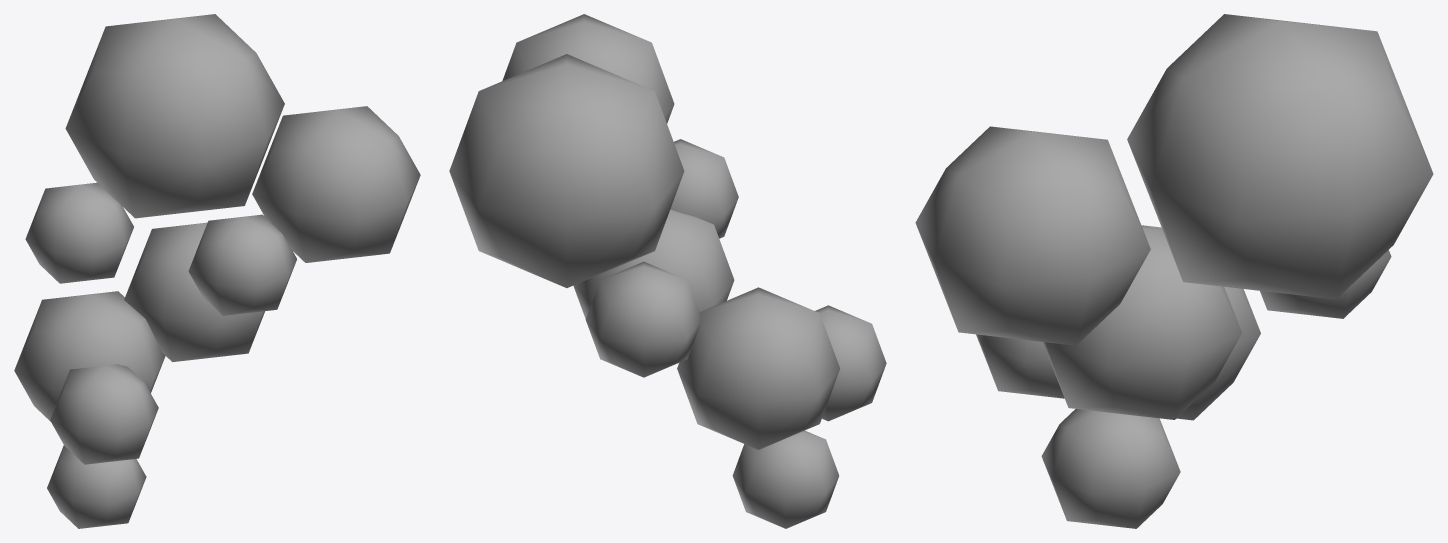
File: Isl_14_Smoke.fbx
The picture shows the model from 3 angles, left to right: view 1: azimuth 30°, elevation 25°; view 2: azimuth 150°, elevation 25°; view 3: azimuth 270°, elevation 25°; orthographic projection. The views are drawn at different scales.
Parts seen in each view (by area): view 1: Isl_14_Smoke; view 2: Isl_14_Smoke; view 3: Isl_14_Smoke.
Part boxes in pixels (x1,y1,x2,y2): Isl_14_Smoke: [14, 14, 420, 528]; Isl_14_Smoke: [449, 14, 886, 528]; Isl_14_Smoke: [915, 14, 1433, 528].
Size of the model in its own units: 336 by 310 by 396.
1 material, 1 textured.
